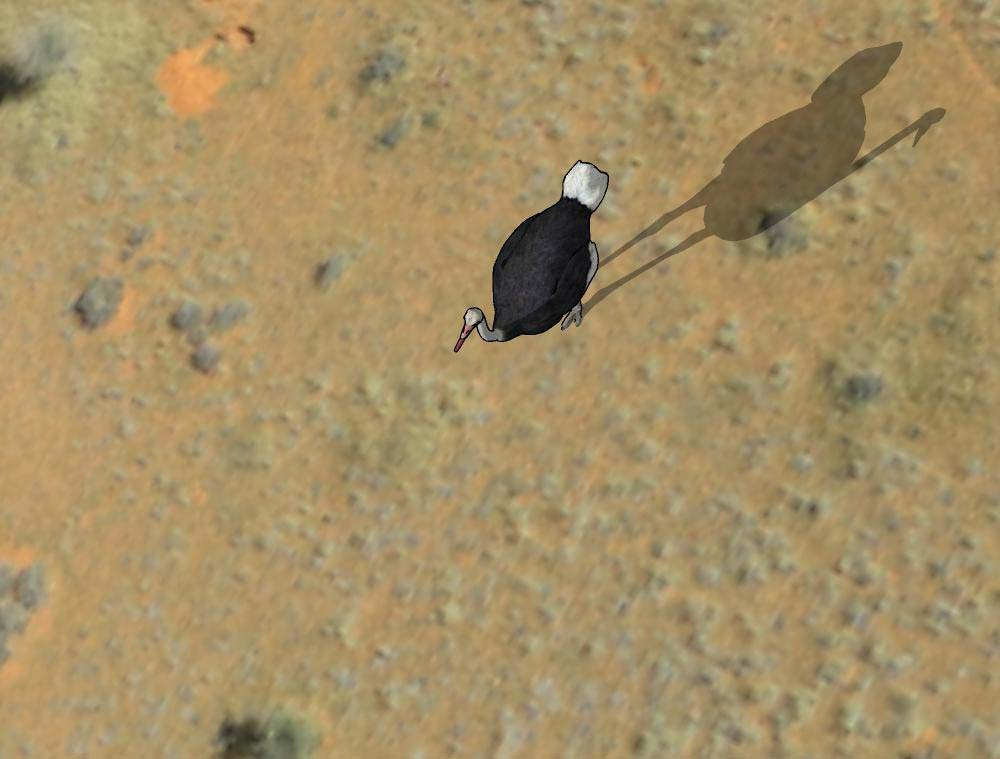springbok: (439, 155, 617, 359)
